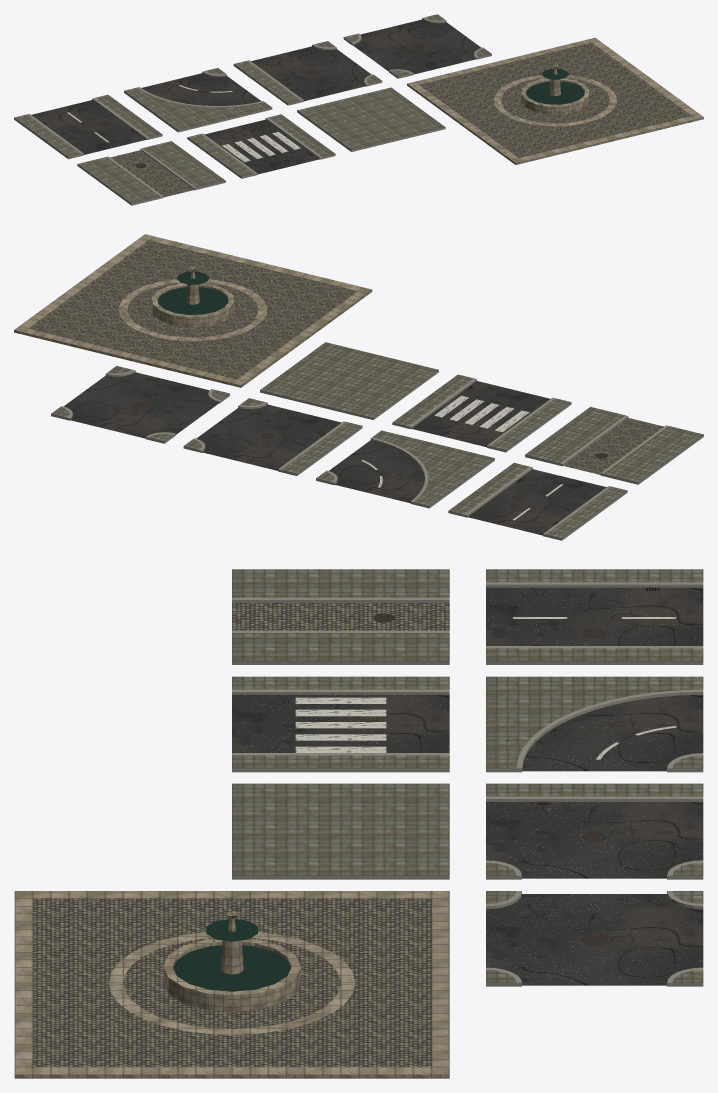
The model's file is straat.glb.
3 renders of one model, top to bottom at view 1: azimuth 30°, elevation 25°; view 2: azimuth 150°, elevation 25°; view 3: azimuth 270°, elevation 25°, orthographic. The views are drawn at different scales.
Visible parts, largest first — view 1: Plein, Stoep, Steeg, Zebra, Recht, Bocht, TStuk, Kruis, Fontein; view 2: Plein, Stoep, Steeg, Bocht, Zebra, Recht, TStuk, Kruis, Fontein; view 3: Plein, Stoep, Zebra, TStuk, Bocht, Recht, Steeg, Kruis, Fontein.
Part boxes in pixels (bbox=[...]): Plein: bbox=[407, 37, 703, 164]; Stoep: bbox=[297, 87, 445, 151]; Steeg: bbox=[77, 141, 225, 205]; Zebra: bbox=[187, 114, 335, 178]; Recht: bbox=[14, 94, 162, 159]; Bocht: bbox=[124, 68, 272, 132]; TStuk: bbox=[233, 41, 382, 105]; Kruis: bbox=[343, 14, 491, 78]; Fontein: bbox=[521, 64, 589, 114]; Plein: bbox=[14, 234, 372, 387]; Stoep: bbox=[260, 342, 438, 419]; Steeg: bbox=[525, 407, 703, 484]; Bocht: bbox=[316, 430, 494, 508]; Zebra: bbox=[392, 374, 571, 452]; Recht: bbox=[448, 463, 627, 540]; TStuk: bbox=[183, 398, 362, 475]; Kruis: bbox=[51, 366, 229, 443]; Fontein: bbox=[152, 267, 234, 327]; Plein: bbox=[14, 891, 449, 1078]; Stoep: bbox=[232, 783, 449, 879]; Zebra: bbox=[232, 676, 449, 772]; TStuk: bbox=[486, 783, 703, 879]; Bocht: bbox=[486, 676, 703, 772]; Recht: bbox=[486, 569, 703, 664]; Steeg: bbox=[232, 569, 449, 664]; Kruis: bbox=[486, 891, 703, 986]; Fontein: bbox=[163, 911, 300, 1011].
Size of the model in its own units: 33 by 2.22 by 19.
Materials: 9 (7 with a texture image).
